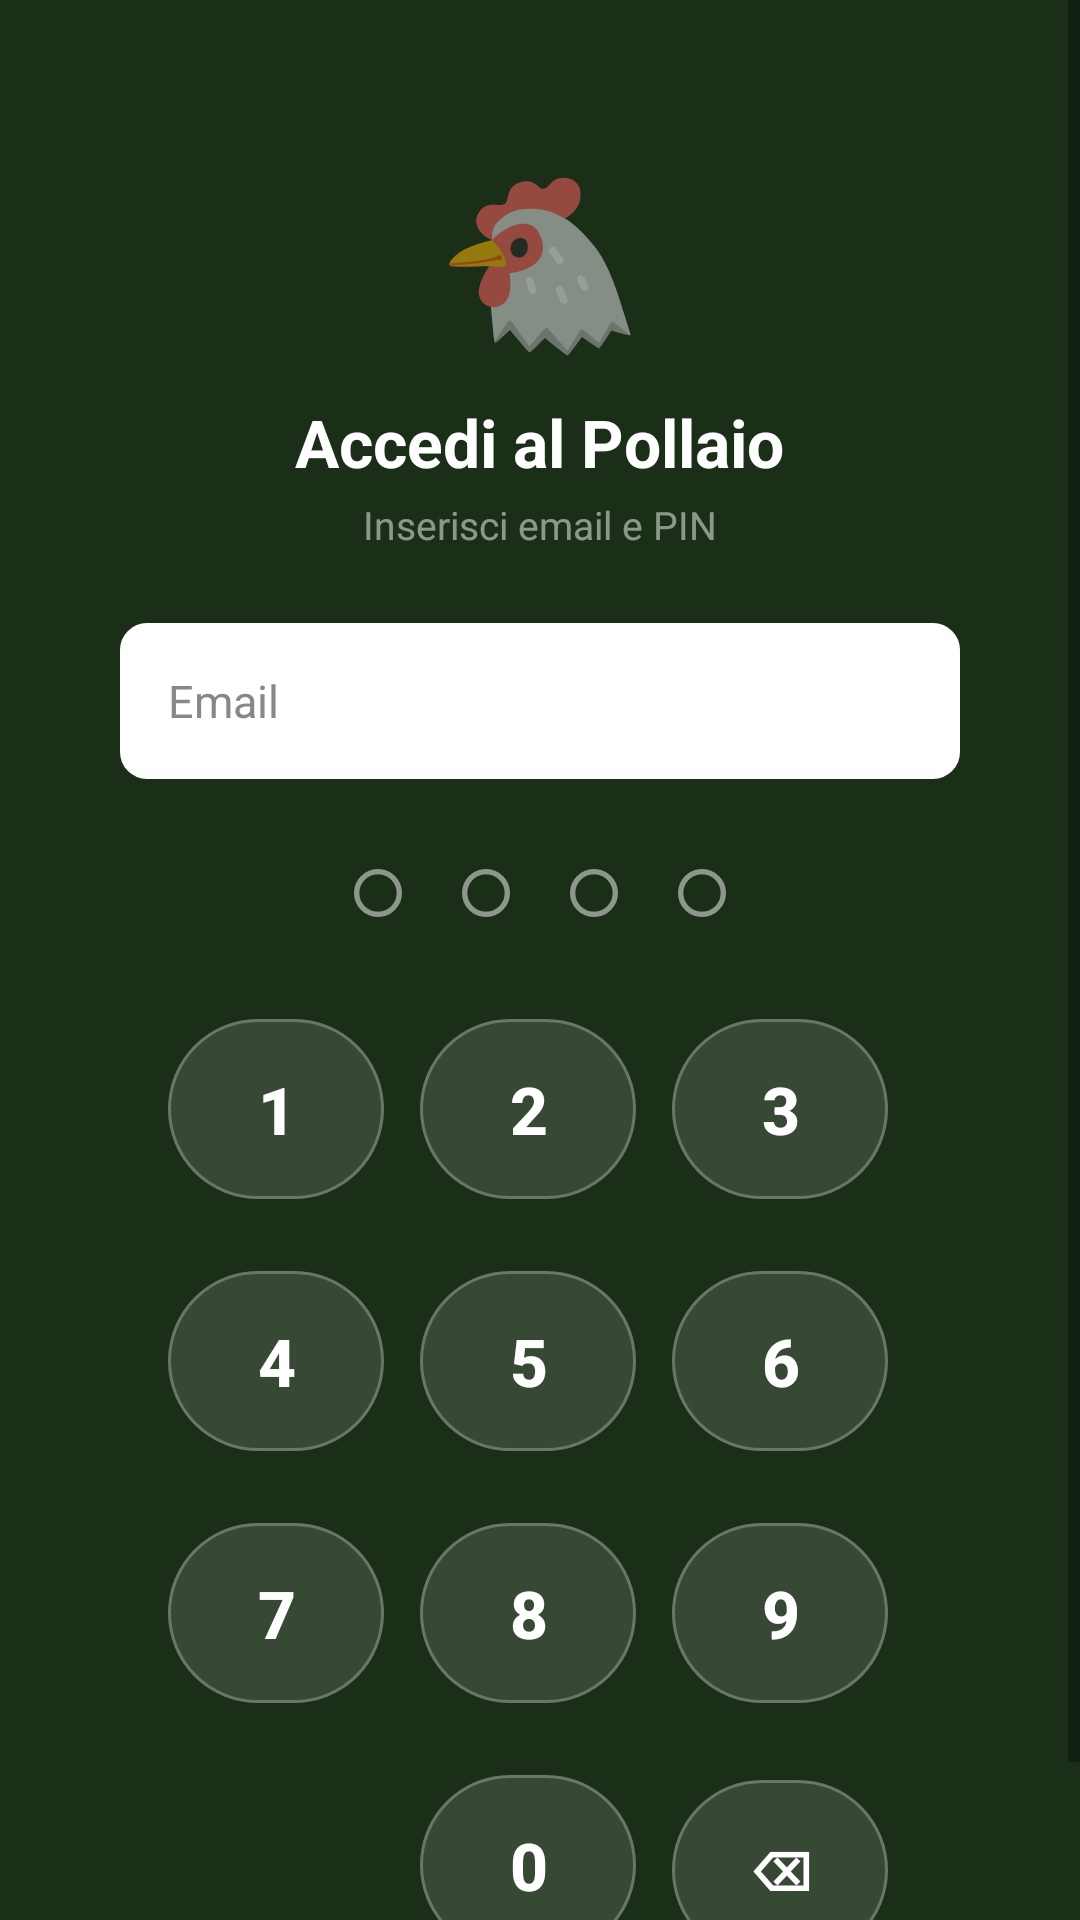

Screen size 1080w x 1920h. Icon name, then its center in pixels as (x,y):
dot empty: (378,893), (486,893), (594,893), (702,893)
